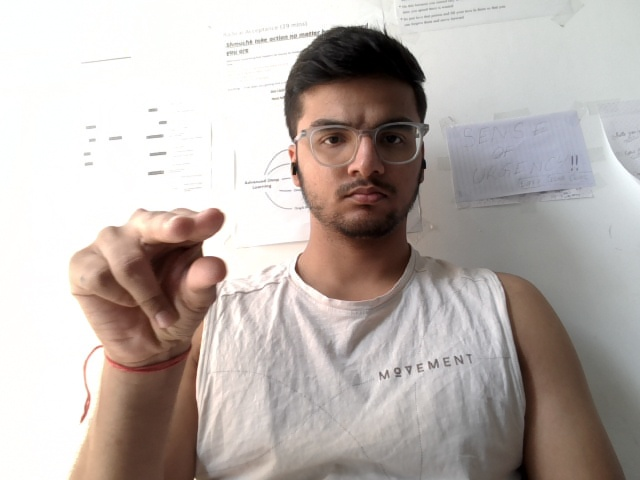no: (48, 192, 248, 437)
